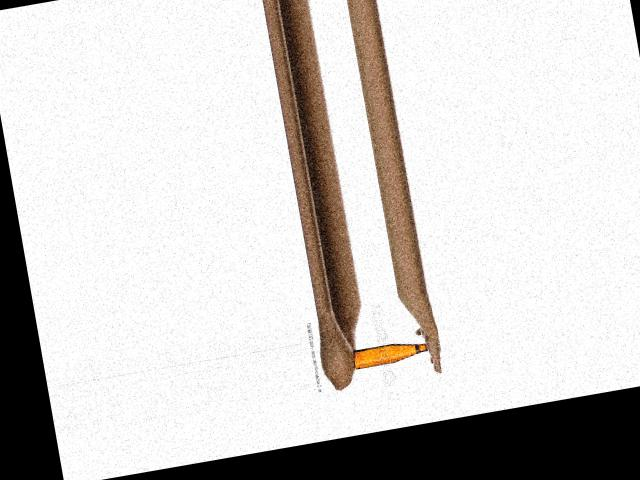beer: (352, 336, 430, 369)
